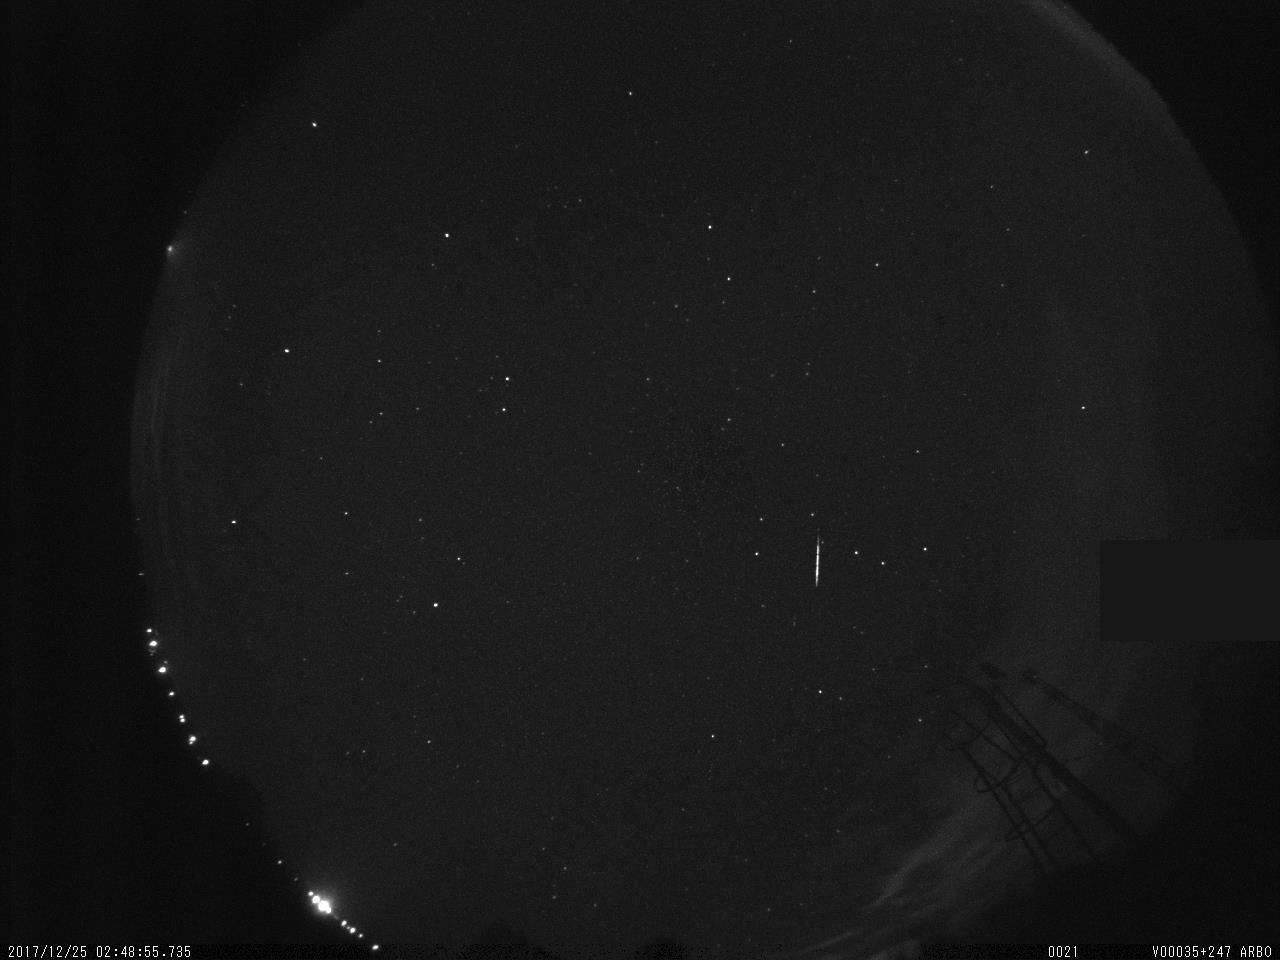meteor: (791, 532, 841, 584)
